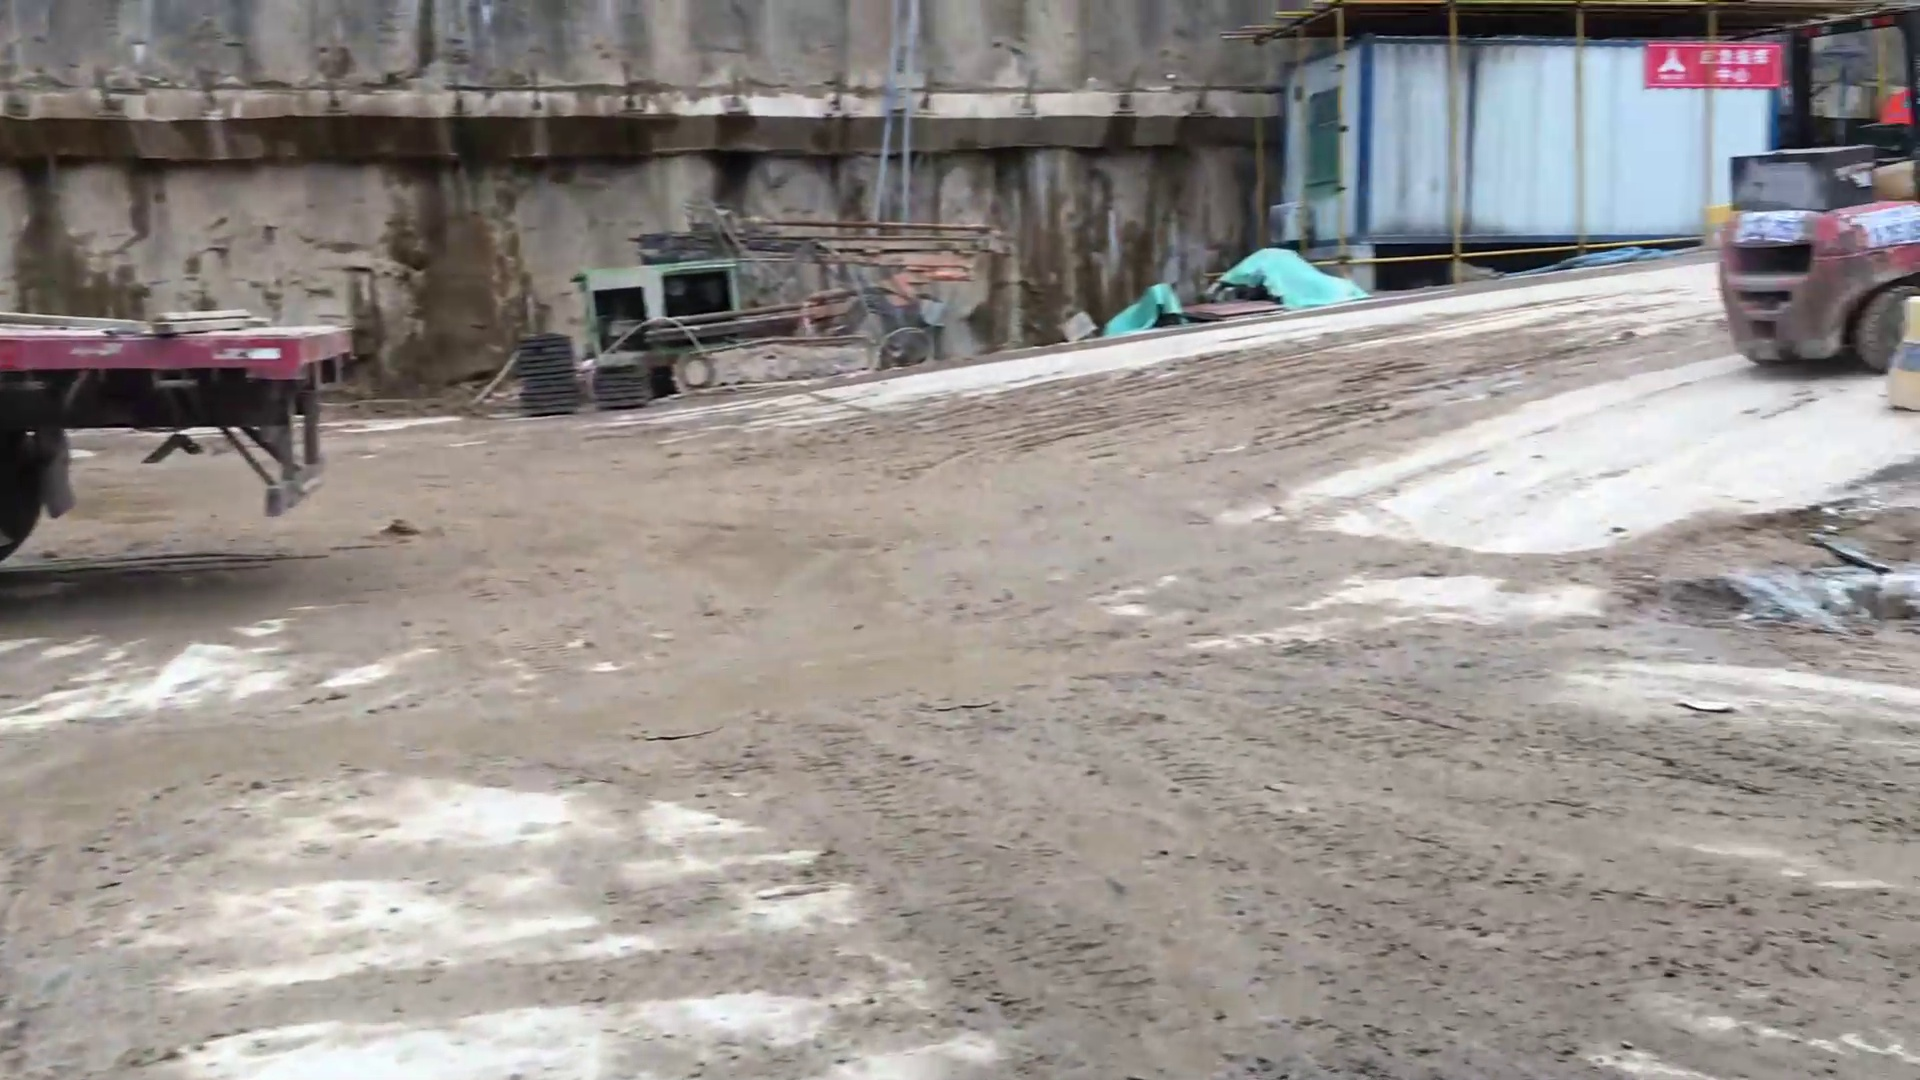slogan: (1640, 37, 1785, 98)
